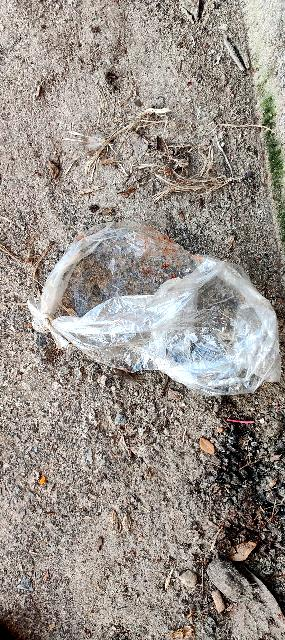polythene: (26, 213, 285, 413)
